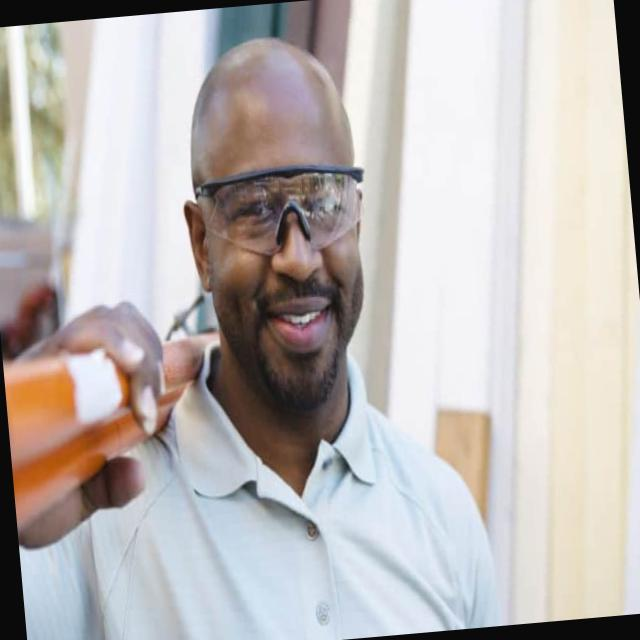goggles: (190, 156, 374, 264)
no-helmet: (152, 0, 368, 163)
no-vest: (4, 342, 503, 640)
